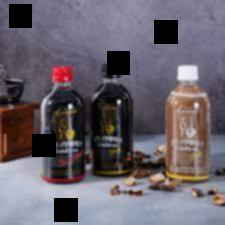contrabass_sweetblack: (36, 64, 91, 188)
